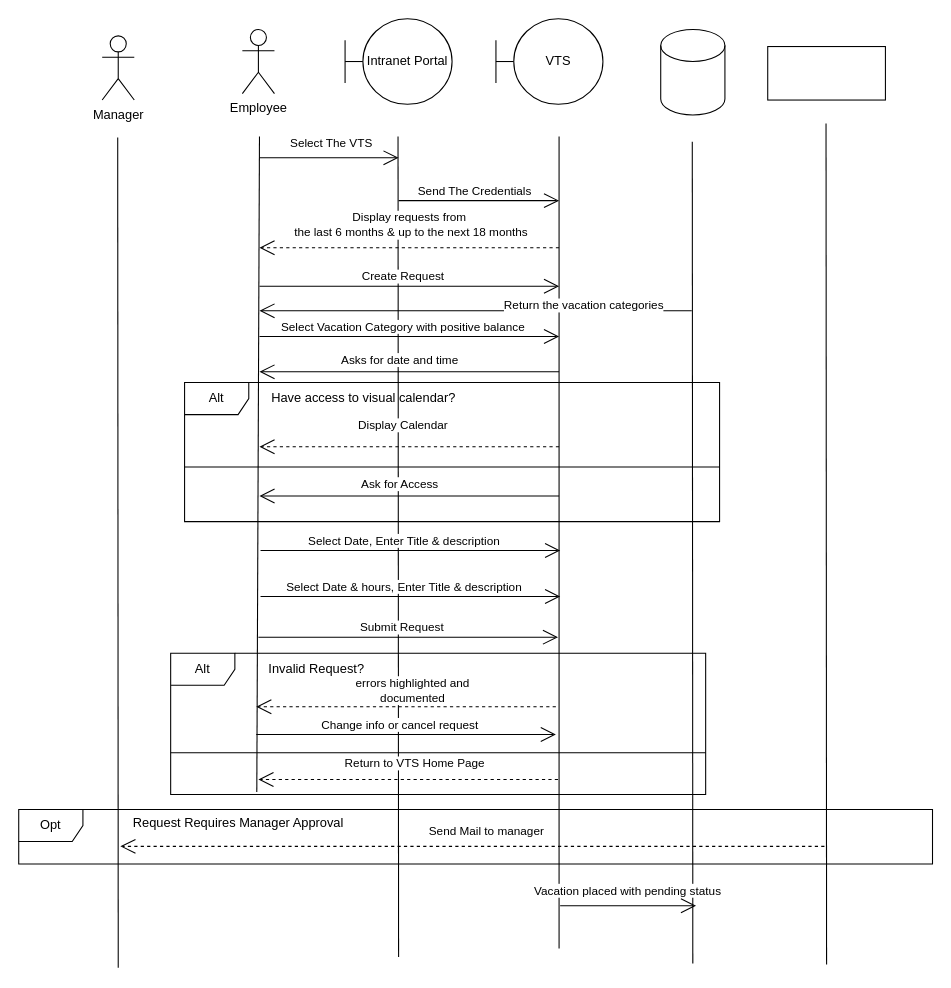
Image size: 951x988. Some labels were removed from this diagram. The shapes that lost their labels are listed below. From the top down, each one's centre as x and y in pixels, then its label:
pixel 692 71: Database
pixel 826 72: Email Service
